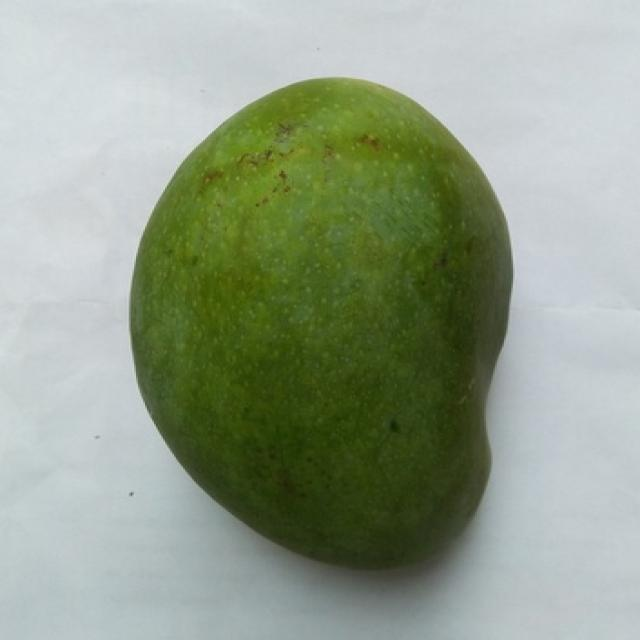Mango: (131, 79, 511, 567)
